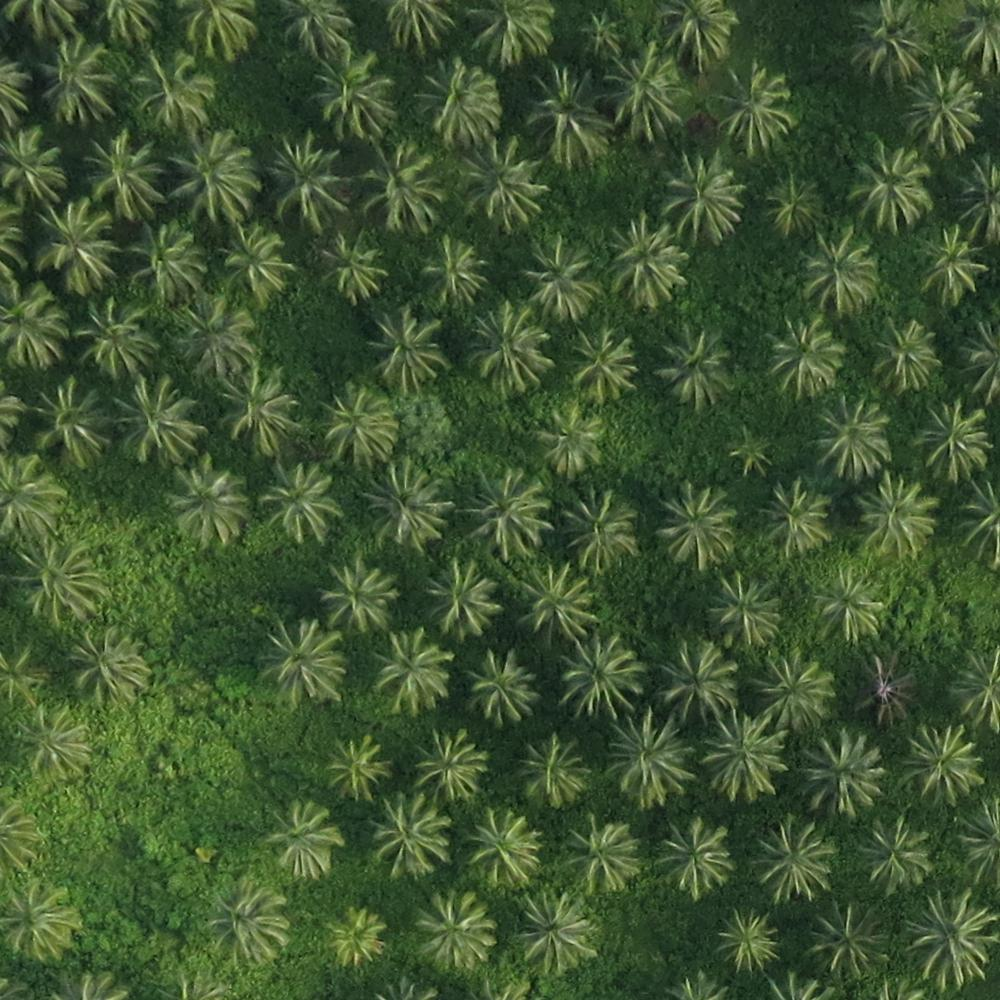Palm: (348, 138, 445, 236), (352, 458, 447, 552), (252, 459, 348, 551), (451, 141, 547, 233), (654, 148, 747, 242), (602, 708, 689, 807), (14, 539, 110, 628), (745, 813, 838, 904), (456, 468, 550, 558), (525, 63, 615, 157), (27, 200, 116, 292), (841, 142, 934, 230), (416, 56, 503, 148), (706, 64, 800, 149), (212, 362, 301, 451), (167, 133, 256, 222), (306, 48, 396, 135), (698, 714, 787, 800), (255, 623, 344, 709), (603, 46, 689, 135), (74, 134, 165, 218), (899, 67, 983, 156), (201, 878, 288, 963), (113, 379, 200, 464), (651, 639, 741, 721), (553, 636, 644, 717), (906, 895, 991, 981), (165, 458, 248, 546), (125, 47, 216, 127), (852, 474, 939, 557), (411, 890, 499, 972), (899, 725, 985, 808), (262, 135, 342, 224), (63, 625, 147, 709), (513, 891, 598, 974), (651, 484, 736, 567), (604, 219, 687, 304), (365, 630, 453, 710), (365, 797, 454, 876), (803, 897, 892, 975), (802, 731, 885, 814), (512, 562, 598, 642), (653, 324, 739, 404), (30, 41, 116, 121), (69, 297, 158, 374), (524, 231, 600, 321), (556, 813, 638, 896), (798, 230, 881, 312), (556, 485, 637, 568), (469, 306, 549, 390), (808, 398, 889, 480), (855, 815, 936, 896), (211, 224, 289, 307), (363, 310, 448, 385), (765, 318, 844, 398), (127, 221, 206, 301), (653, 821, 734, 899), (169, 294, 250, 372), (5, 880, 81, 963), (311, 554, 394, 630), (847, 7, 933, 80), (751, 655, 832, 732), (35, 382, 110, 465), (312, 385, 396, 459), (412, 729, 492, 806), (422, 559, 502, 636), (258, 801, 341, 875), (807, 569, 884, 646), (462, 809, 540, 884), (463, 644, 538, 721), (754, 483, 833, 556), (870, 315, 939, 397), (705, 569, 780, 644), (914, 230, 988, 306), (513, 736, 591, 808), (916, 406, 991, 480), (413, 235, 485, 310), (312, 234, 390, 302), (566, 326, 639, 398), (22, 707, 90, 783), (534, 403, 604, 471), (760, 173, 832, 236), (319, 736, 388, 800), (717, 910, 778, 971), (323, 908, 384, 965)
